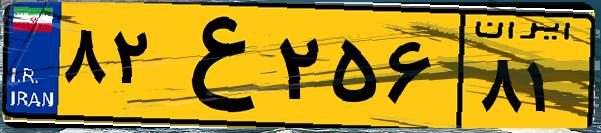1: (525, 38, 570, 115)
2: (270, 28, 330, 110), (110, 28, 158, 98)
5: (330, 28, 385, 110)
6: (385, 28, 445, 110)
8: (57, 26, 110, 100), (475, 38, 525, 113)
ع: (158, 12, 270, 120)
